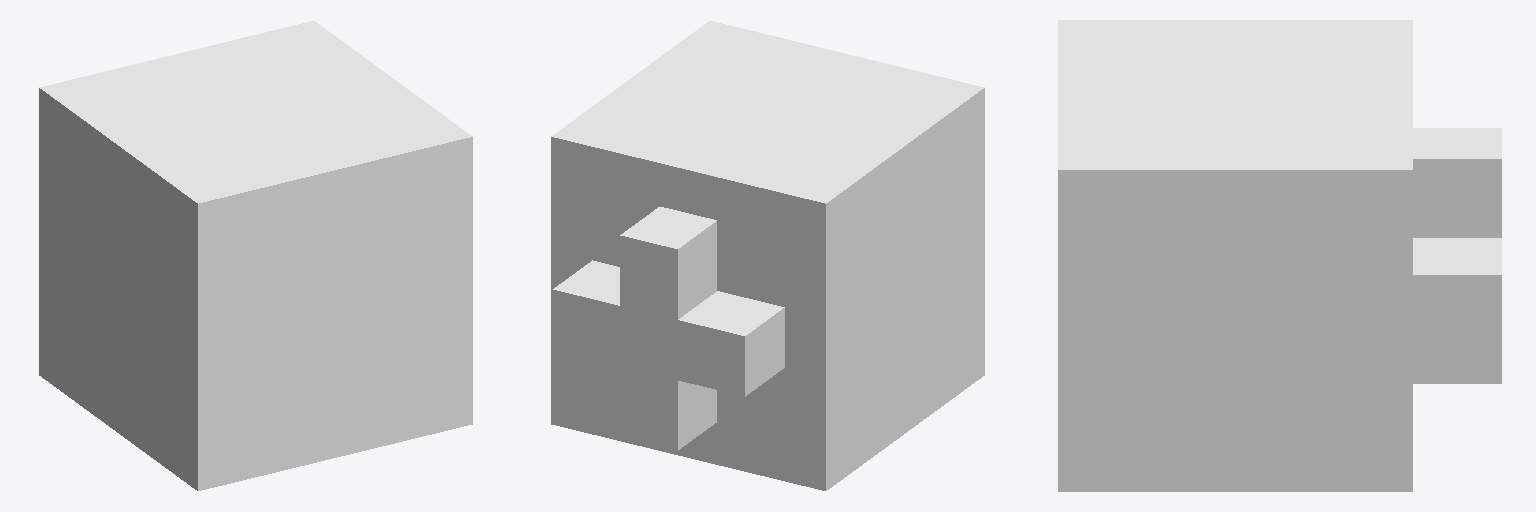
URDF robot description (Cross_cube_cap_preprocessed):
<?xml version="1.0" ?>
<robot name="Cross_cube_cap_preprocessed">
  <link name="baseLink">
    <contact>
    	<friction_anchor/>
    	   <lateral_friction value="1.0"/>
    </contact>
    <inertial>
      <origin rpy="0 0 0" xyz="0 0 0"/>
       <!-- mass controls penetration -->
       <mass value=".5"/>
       <inertia ixx="1e-4" ixy="0" ixz="0" iyy="1e-4" iyz="0" izz="1e-4"/>
    </inertial>
    <visual>
      <origin rpy="0 0 0" xyz="0 0 0"/>
      <geometry>
        <mesh filename="Cross_cube_cap_preprocessed.obj"/>
      </geometry>
       <material name="white">
        <color rgba="1 1 1 1"/>
      </material>
    </visual>
    <collision>
      <origin rpy="0 0 0" xyz="0 0 0"/>
      <geometry>
        <mesh filename="Cross_cube_cap_preprocessed.obj"/>
      </geometry>
    </collision>
  </link>
</robot>

--- Render facts (derived) ---
3 views of the same robot in one strip: view 1: azimuth 30°, elevation 25°; view 2: azimuth 150°, elevation 25°; view 3: azimuth 270°, elevation 25° (orthographic).
Robot: Cross_cube_cap_preprocessed — 1 links, 0 joints (none); root link baseLink; default pose: every joint at zero.
Visible links, largest first — view 1: baseLink; view 2: baseLink; view 3: baseLink.
Boxes of the visible links, x1,y1,x2,y2 form: baseLink: (39,21,472,490); baseLink: (551,21,984,490); baseLink: (1058,20,1501,491).
Size in the robot's own frame: 0.08 by 0.1 by 0.08 metres.
Meshes: 1 distinct files referenced, 1 mesh visuals loaded (1 OBJ).